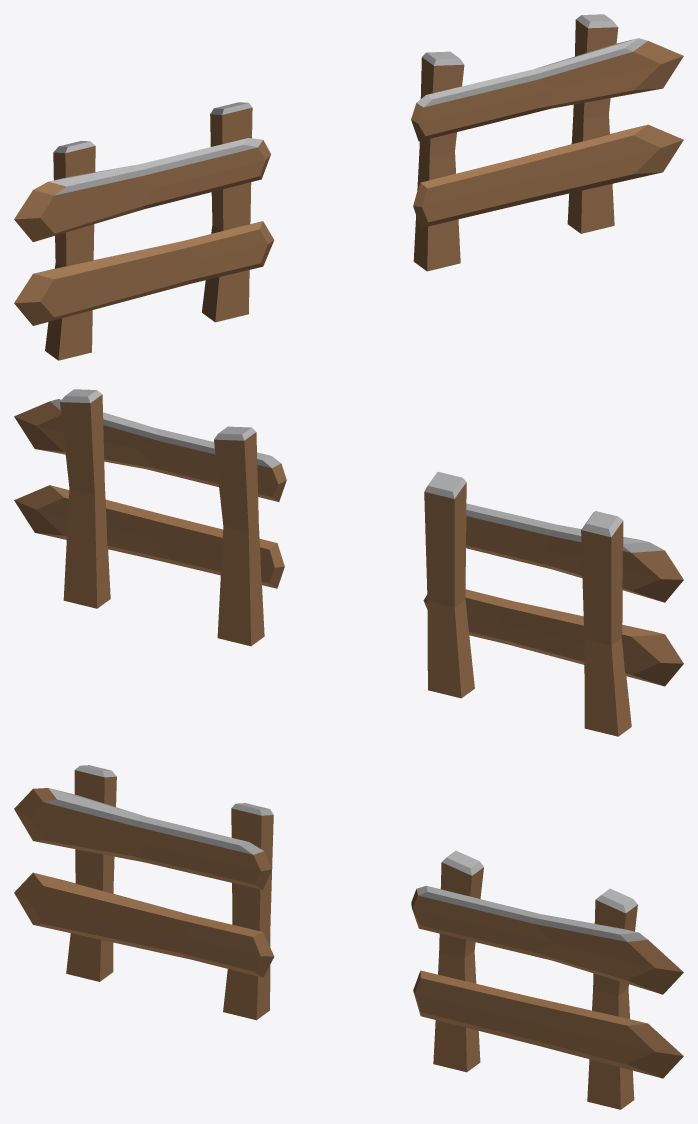
The model's file is Fence_2 Gate Winter.fbx.
The picture shows the model from 3 angles, top to bottom: view 1: azimuth 30°, elevation 25°; view 2: azimuth 150°, elevation 25°; view 3: azimuth 330°, elevation 25°; orthographic projection.
Parts seen in each view (by area): view 1: Fence2GateWinter_mesh; view 2: Fence2GateWinter_mesh; view 3: Fence2GateWinter_mesh.
Boxes of the visible parts, bbox=[...] form: Fence2GateWinter_mesh: bbox=[14, 14, 683, 360]; Fence2GateWinter_mesh: bbox=[14, 389, 683, 736]; Fence2GateWinter_mesh: bbox=[14, 765, 683, 1109].
Size of the model in its own units: 347 by 104 by 20.56.
